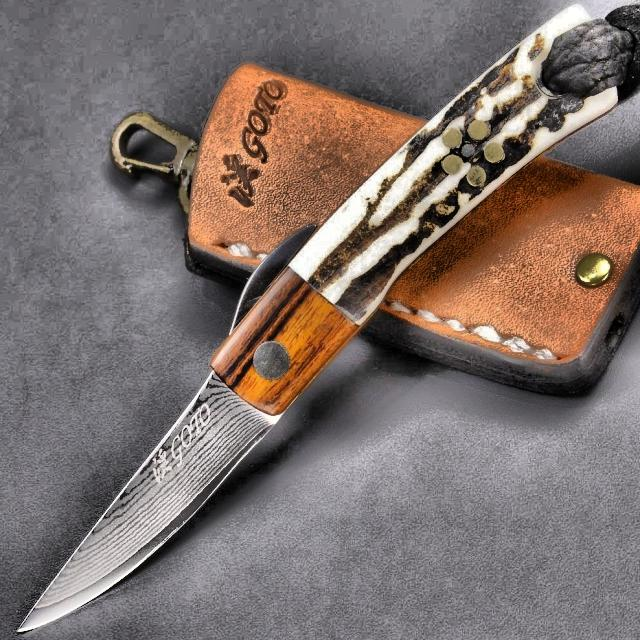knife: (20, 6, 622, 633)
